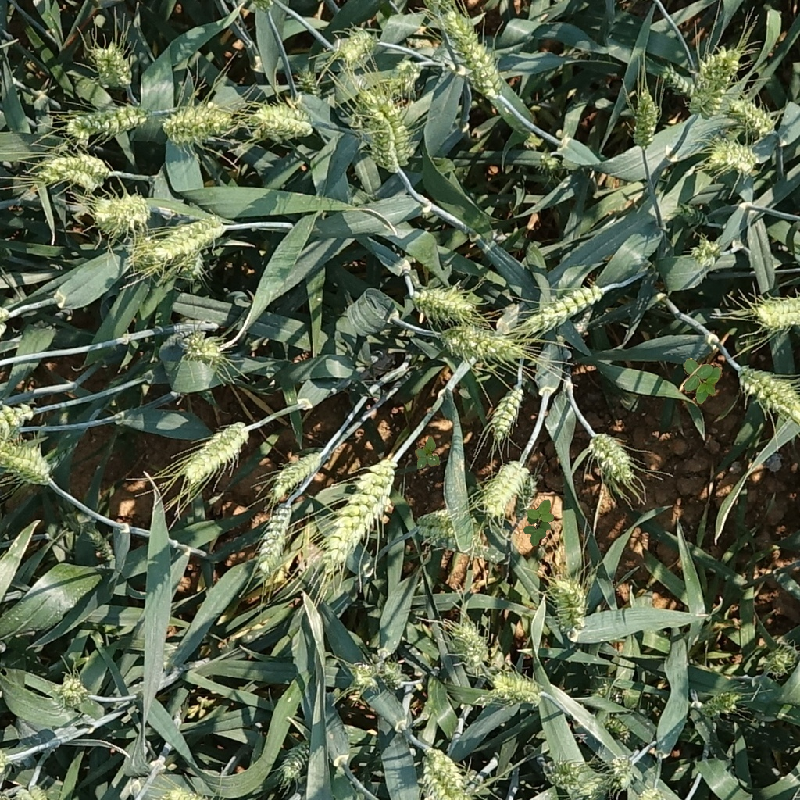spikelet: (318, 452, 400, 570), (438, 7, 506, 98), (356, 85, 415, 172), (180, 418, 252, 485), (685, 41, 744, 120), (521, 280, 605, 334), (149, 210, 228, 263), (733, 363, 800, 423), (160, 97, 238, 146), (437, 321, 528, 363), (252, 499, 296, 580), (62, 101, 149, 141), (35, 147, 114, 190), (479, 458, 533, 519), (248, 98, 318, 142), (417, 745, 473, 800), (267, 447, 326, 499), (585, 428, 637, 485), (1, 434, 55, 486), (443, 615, 493, 671), (546, 572, 591, 634), (90, 189, 152, 234), (410, 281, 479, 321), (540, 753, 600, 798), (487, 667, 548, 708), (486, 382, 527, 441), (351, 654, 409, 695), (704, 135, 762, 175), (175, 326, 230, 367), (329, 23, 380, 67), (628, 83, 662, 148), (89, 40, 133, 89), (750, 290, 799, 333), (727, 94, 777, 135), (413, 506, 459, 548), (758, 633, 799, 677), (85, 525, 120, 574), (278, 736, 315, 782), (1, 399, 35, 442), (699, 685, 742, 719), (606, 751, 640, 793), (53, 671, 90, 709), (659, 62, 698, 98), (689, 235, 723, 267), (7, 782, 52, 799)
weed: (672, 355, 725, 409), (518, 499, 559, 548), (411, 435, 441, 470)
